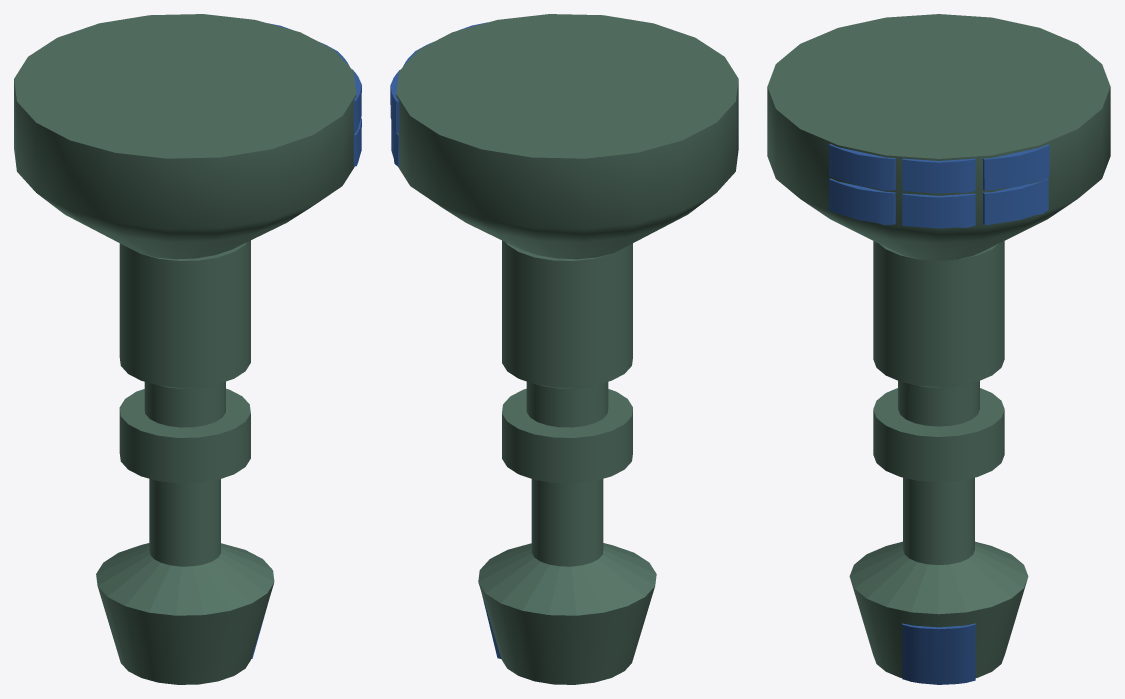
The model's file is sensin_tatemono2.fbx.
The picture shows the model from 3 angles, left to right: view 1: azimuth 30°, elevation 25°; view 2: azimuth 150°, elevation 25°; view 3: azimuth 270°, elevation 25°; orthographic projection.
Parts seen in each view (by area): view 1: pasted__pCylinder5, pasted__pCylinder4; view 2: pasted__pCylinder5, pasted__pCylinder4; view 3: pasted__pCylinder5, pasted__pCylinder4, pCube1, pCube6, pCube5, pCube8, pCube9, pCube10, pCube7.
Boxes of the visible parts, x1,y1,x2,y2 form: pasted__pCylinder5: (14, 14, 356, 259); pasted__pCylinder4: (96, 240, 274, 684); pasted__pCylinder5: (396, 14, 738, 259); pasted__pCylinder4: (478, 240, 656, 684); pasted__pCylinder5: (767, 14, 1110, 260); pasted__pCylinder4: (849, 241, 1028, 677); pCube1: (902, 623, 975, 684); pCube6: (902, 193, 975, 228); pCube5: (902, 158, 975, 193); pCube8: (983, 144, 1049, 190); pCube9: (829, 144, 895, 190); pCube10: (829, 178, 895, 225); pCube7: (983, 178, 1048, 225).
Size of the model in its own units: 1542 by 2791 by 1526.
